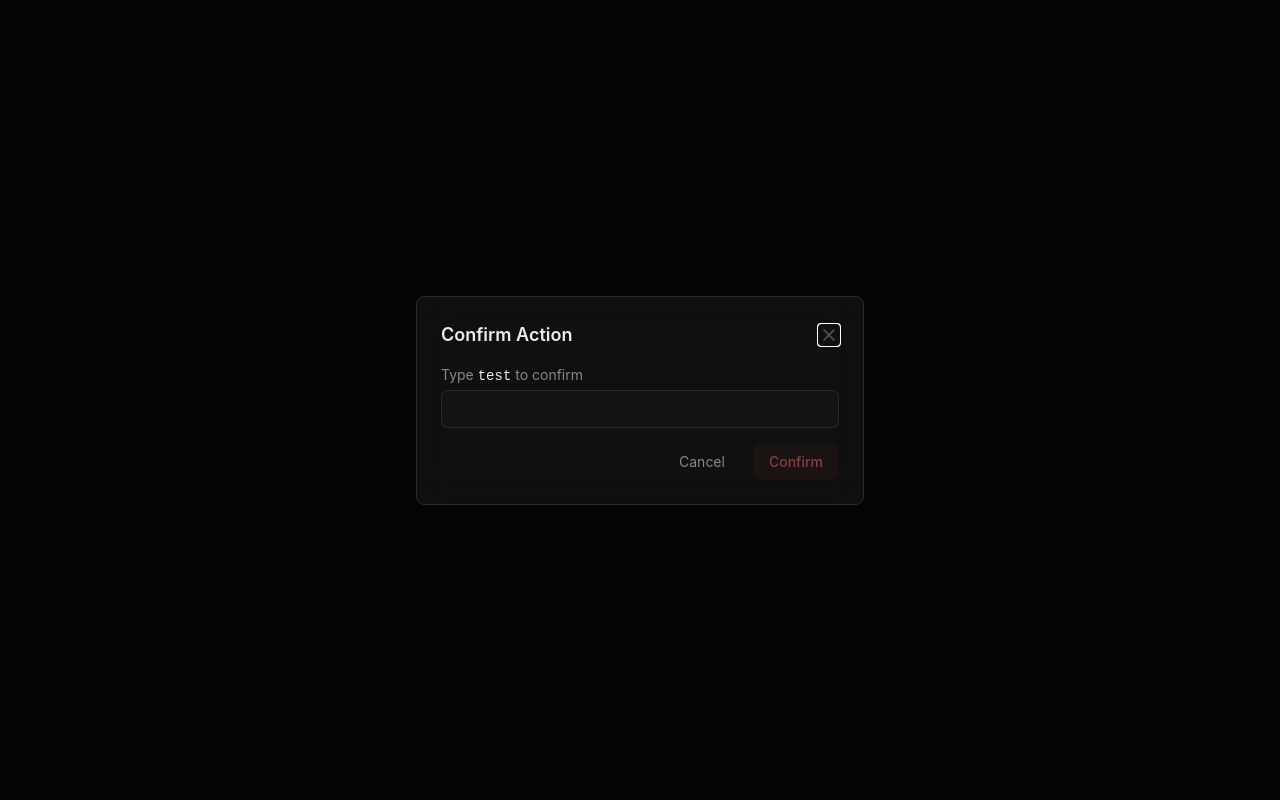
Test: ConfirmModal › exact match enables confirm
Step 1. Type "tes" into the field named "Confirmation input" → (640, 408), box [441,390,839,428]
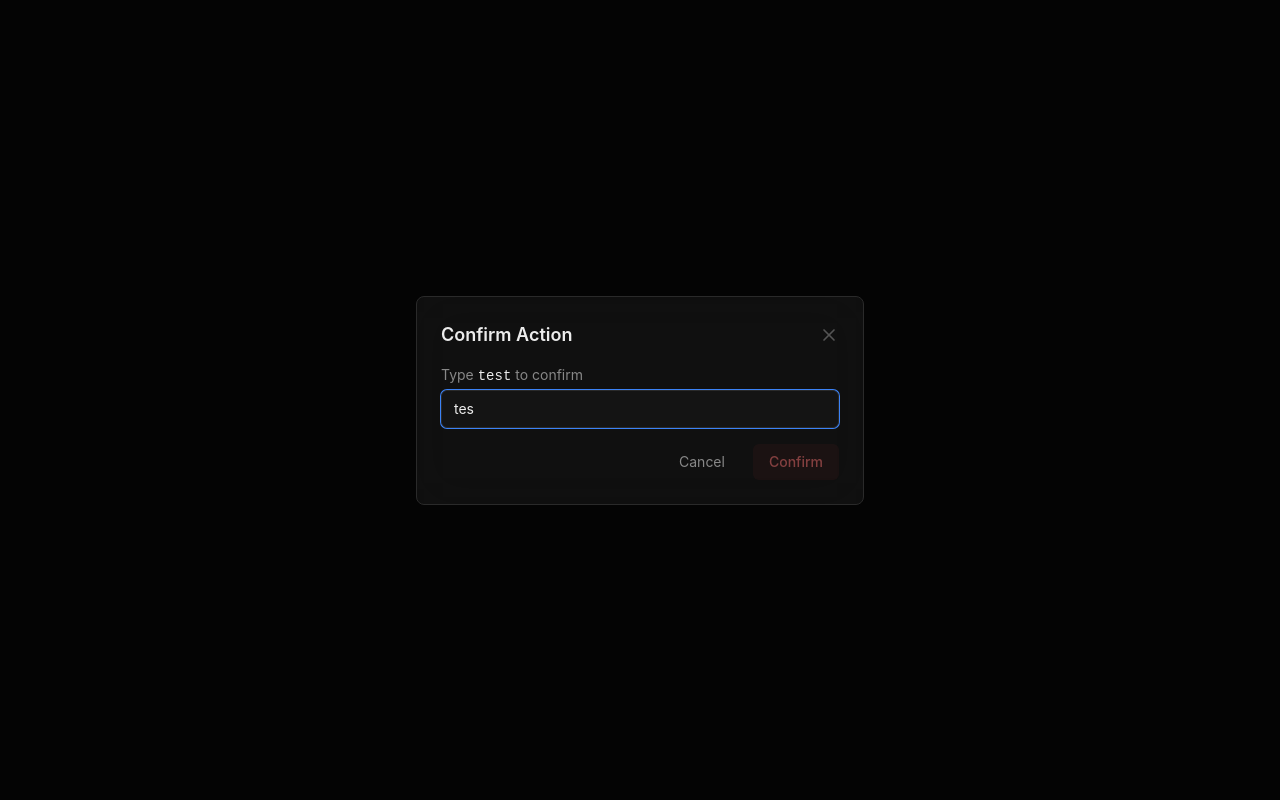
expect the button "Confirm" is disabled: met, box [753,444,839,480]
Step 2. Type "t" into the field named "Confirmation input" → (640, 408), box [441,390,839,428]
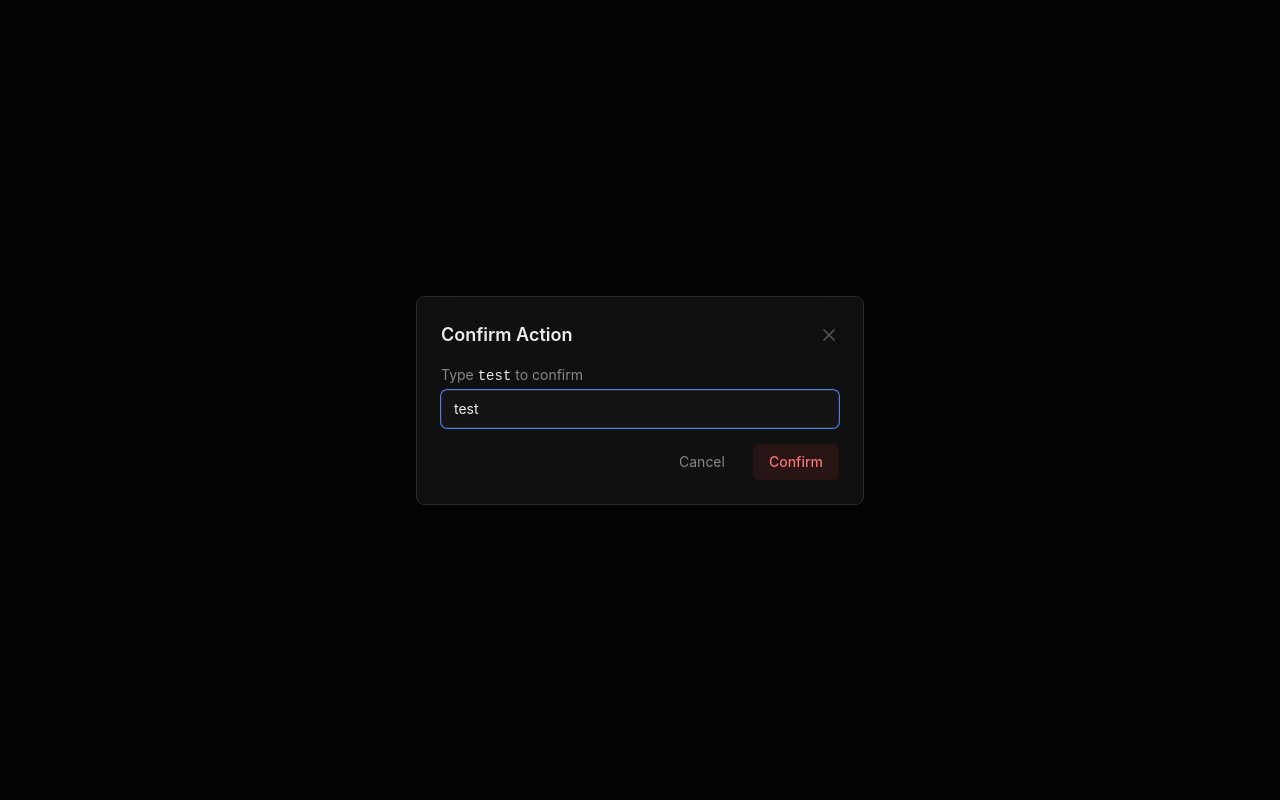
expect the button "Confirm" is enabled: met, box [753,444,839,480]
